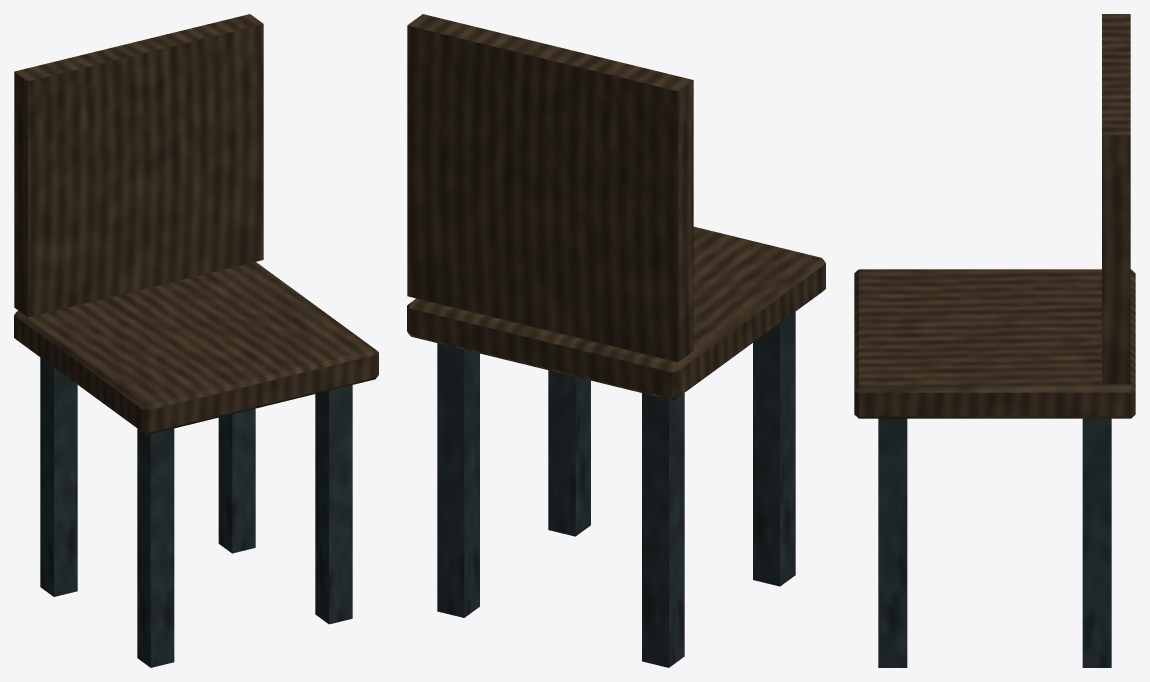
Rendered from Chair.glb.
3 views of the same model, side by side, from view 1: azimuth 30°, elevation 25°; view 2: azimuth 150°, elevation 25°; view 3: azimuth 270°, elevation 25° (orthographic). The views are drawn at different scales.
Parts seen in each view (by area): view 1: Chair; view 2: Chair; view 3: Chair.
Part boxes in pixels (bbox=[...]): Chair: bbox=[14, 14, 378, 667]; Chair: bbox=[407, 14, 825, 667]; Chair: bbox=[854, 14, 1135, 667].
Bounding box in the file's own units: 0.45 × 0.935 × 0.44.
2 materials, 2 textured.
